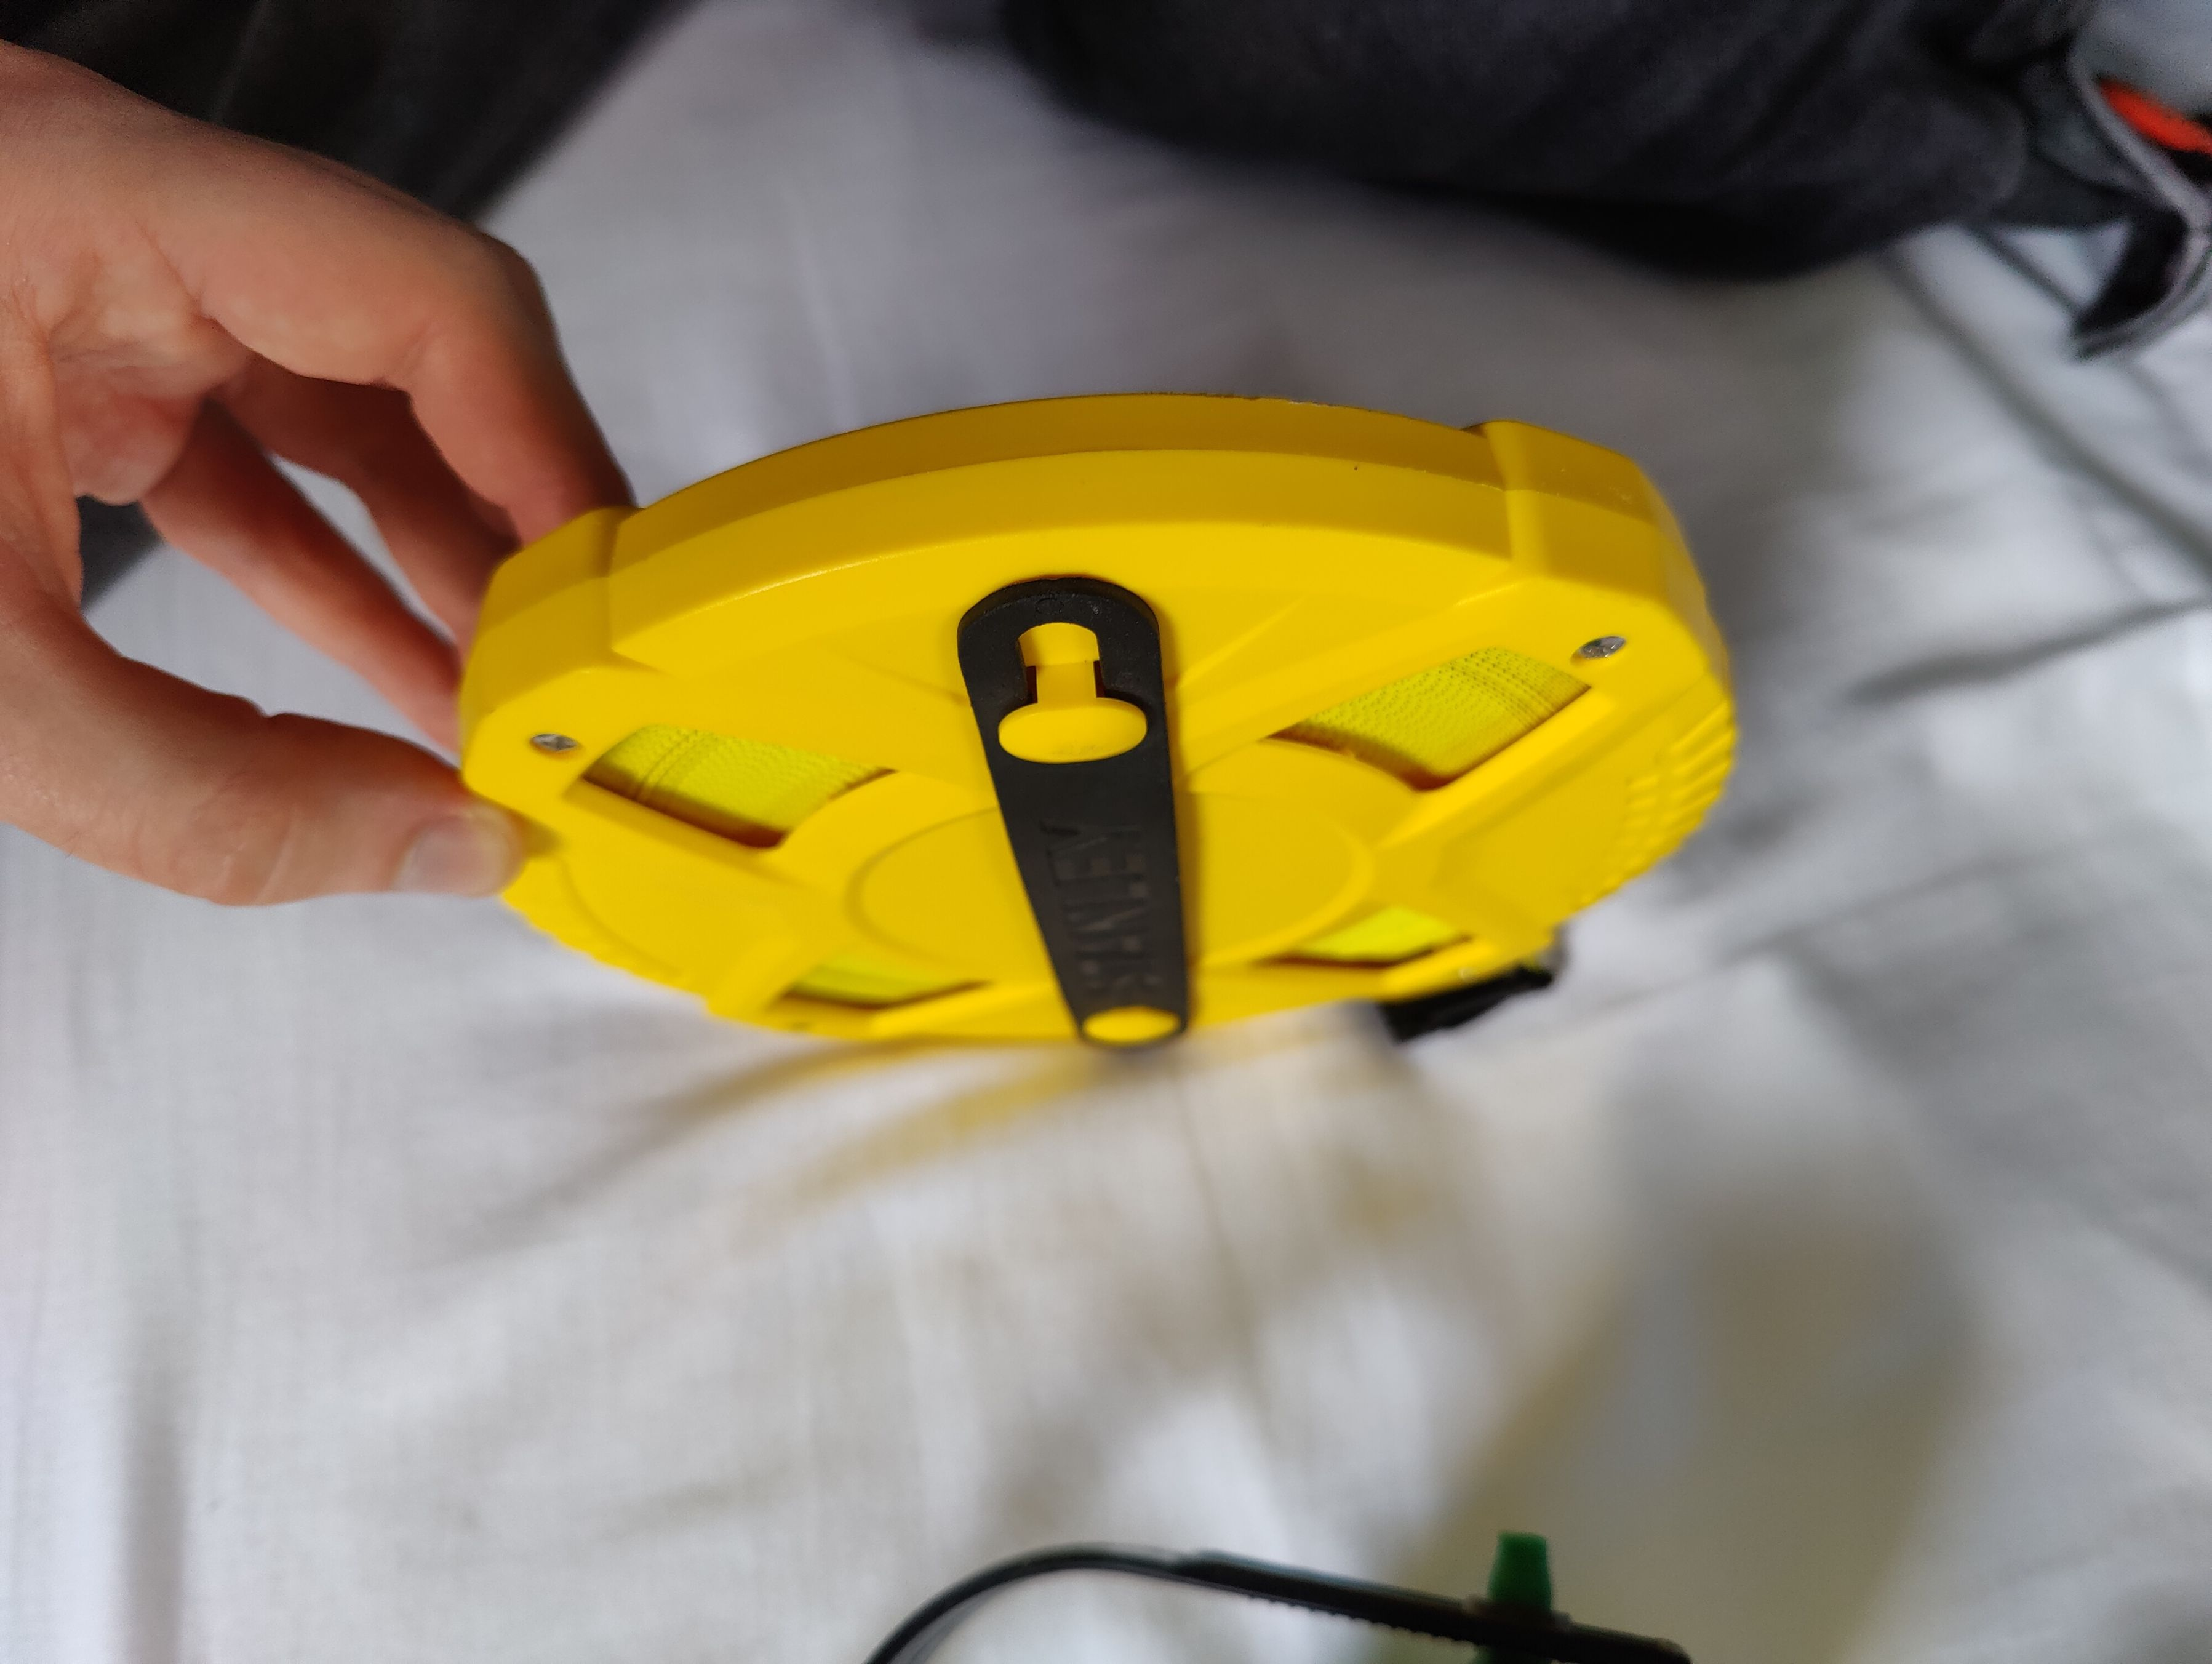tapemeasure: (456, 390, 1742, 1045)
